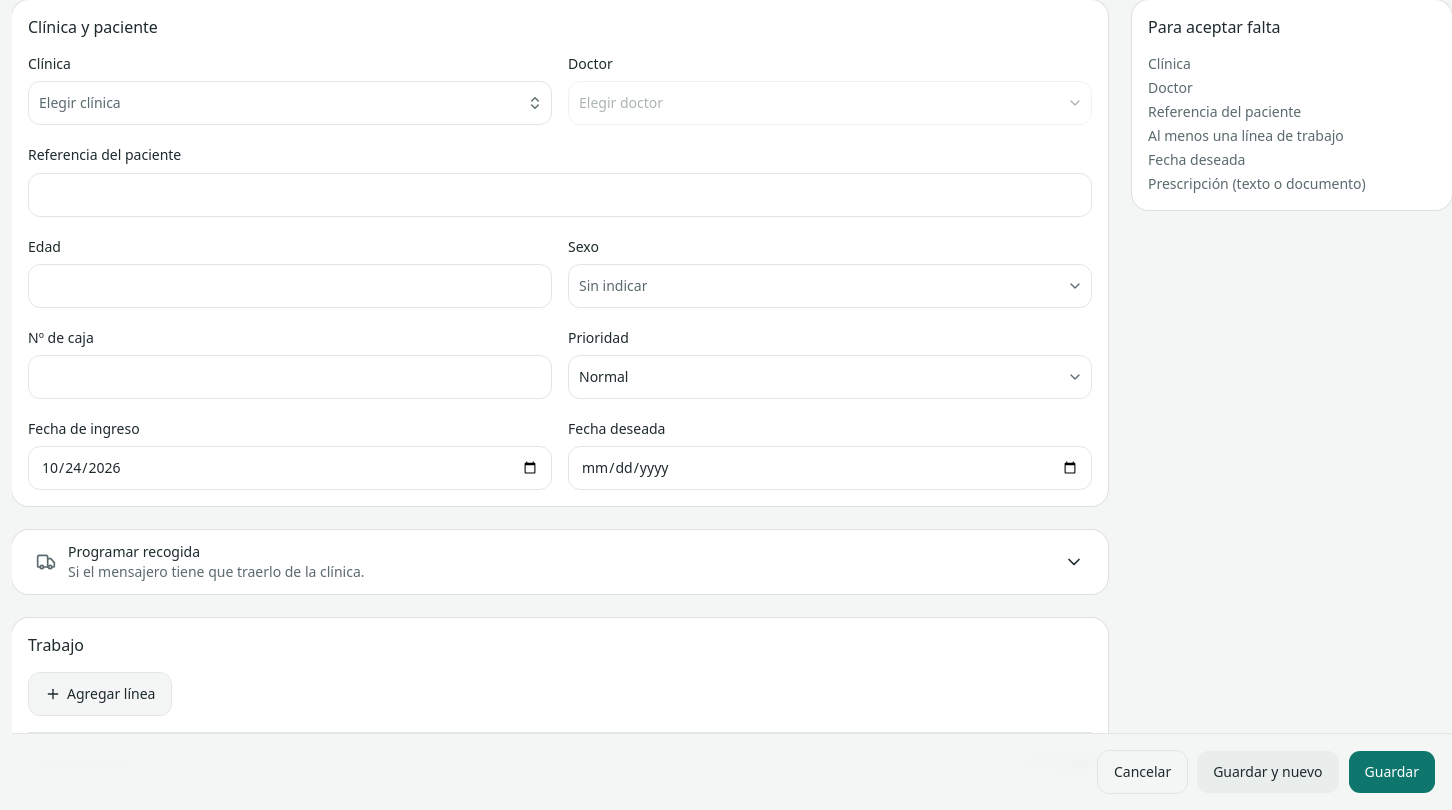
Test: CaseForm › en escritorio, la fila de línea muestra encabezados de columna alineados con los campos
This screenshot has width=1452, height=810.
Click the button "Agregar línea" at {"x": 100, "y": 694}, box [28, 672, 172, 716]
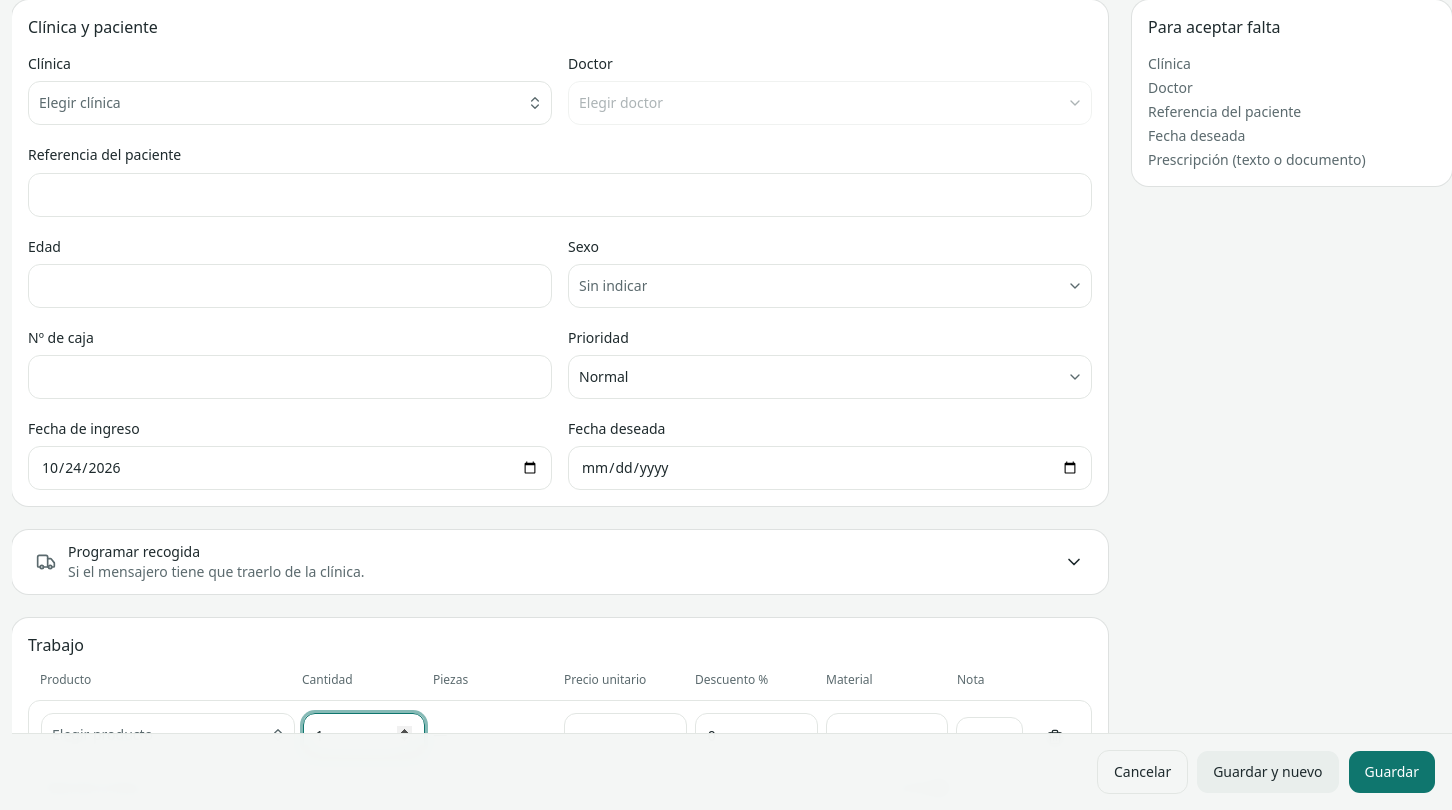
Result: the text "Producto" is shown at [40, 671, 91, 688]
Result: the text "Cantidad" is shown at [302, 671, 353, 688]
Result: the text "Piezas" is shown at [433, 671, 468, 688]
